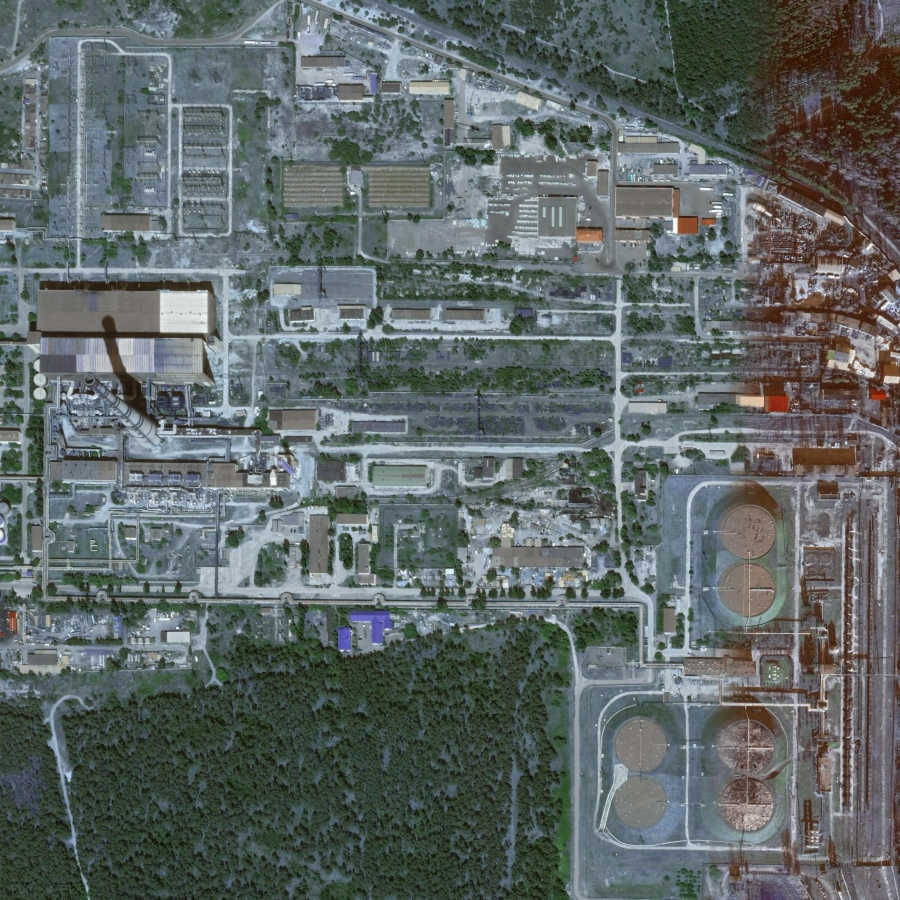PowerPlant: (574, 493, 822, 856)
